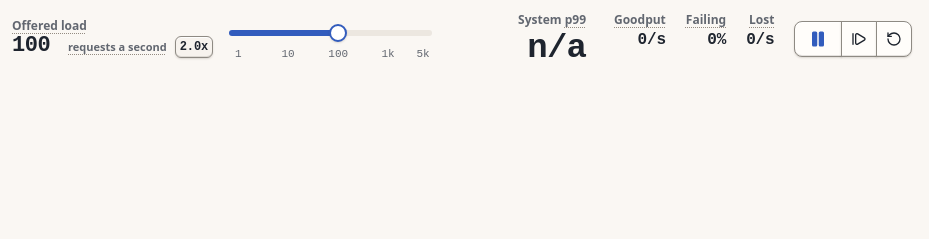
Test case: load as a multiple › makes the current rate the new 1x and closes
Click the button "2.0x" at x=194, y=47, box left=175, top=36, right=213, bottom=58
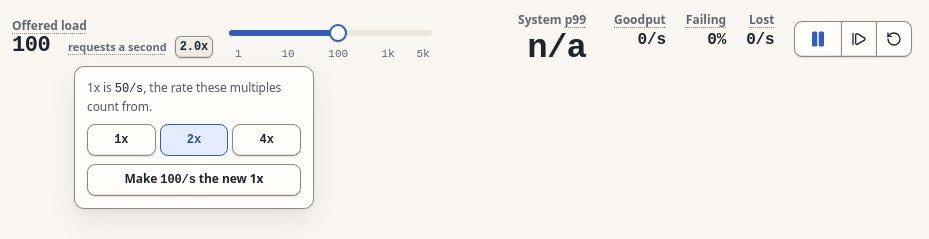
Click the button "Make 100/s the new 1x" at x=194, y=180, box left=87, top=164, right=301, bottom=196
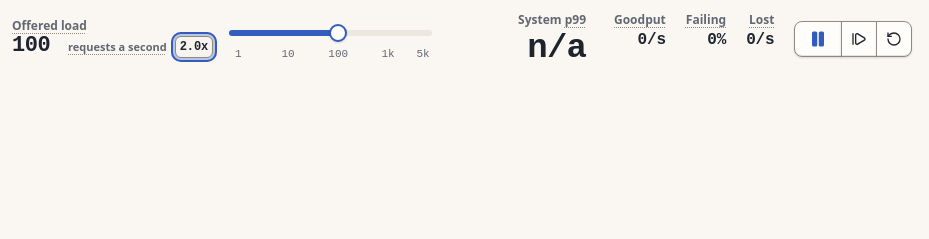
Now the element with class "traffic-multiple-panel" is gone
